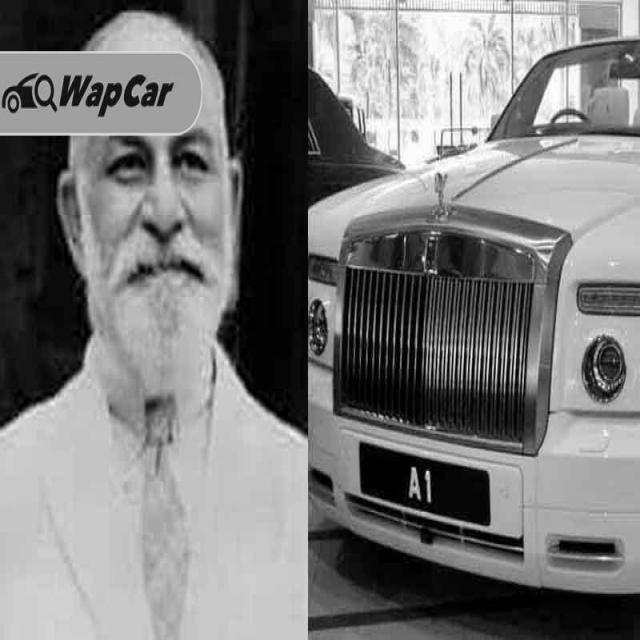car-plate: (362, 439, 489, 527)
